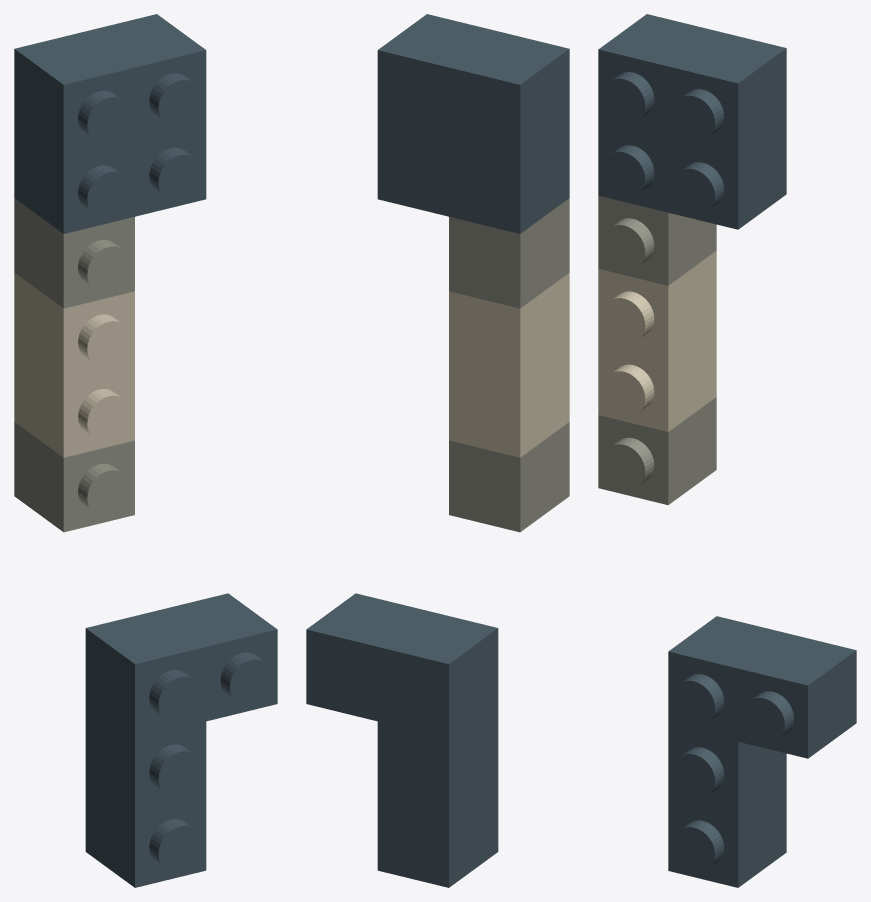
Rendered from current.glb.
3 renders of one model, left to right at view 1: azimuth 30°, elevation 25°; view 2: azimuth 150°, elevation 25°; view 3: azimuth 330°, elevation 25°, orthographic.
Parts seen in each view (by area): view 1: world; view 2: world; view 3: world.
Boxes of the visible parts, x1,y1,x2,y2 form: world: (14,14,277,887); world: (306,14,569,887); world: (598,14,856,887).
Size of the model in its own units: 24 by 88 by 11.4.
